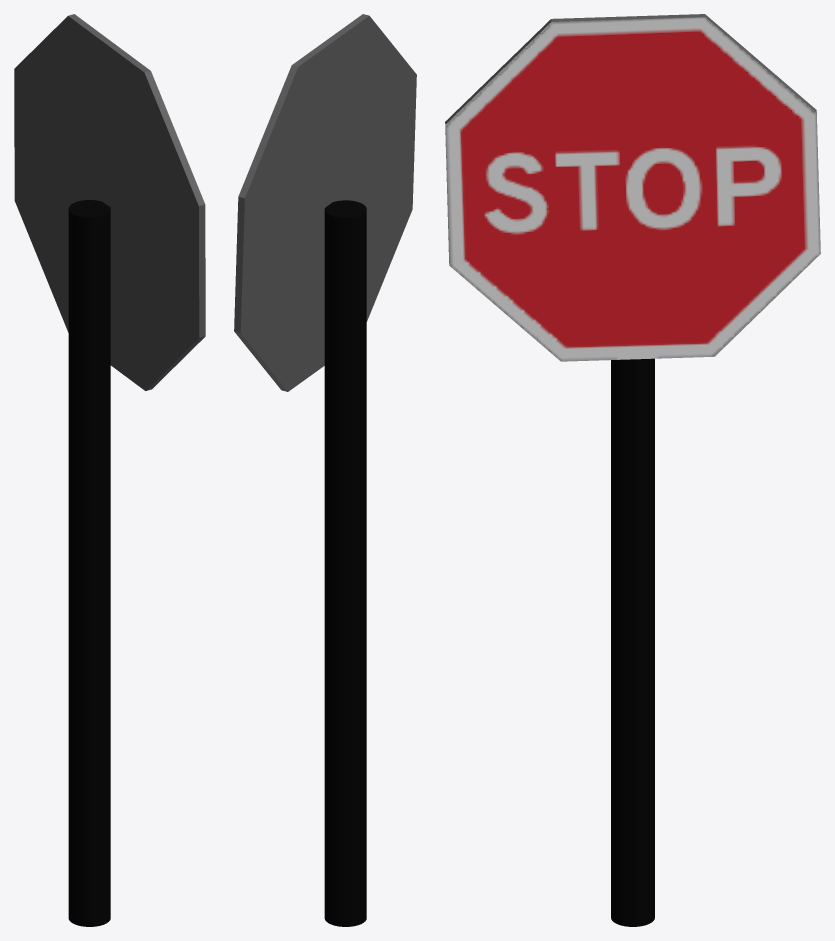
File: Sign_stop.fbx
3 renders of one model, left to right at view 1: azimuth 30°, elevation 25°; view 2: azimuth 150°, elevation 25°; view 3: azimuth 270°, elevation 25°, orthographic. The views are drawn at different scales.
Parts seen in each view (by area): view 1: Sign_Stop, Pole.003; view 2: Sign_Stop, Pole.003; view 3: Sign_Stop, Pole.003.
Part boxes in pixels (left/top/right/bottom): Sign_Stop: left=14, top=14, right=205, bottom=390; Pole.003: left=68, top=200, right=110, bottom=926; Sign_Stop: left=234, top=14, right=416, bottom=391; Pole.003: left=324, top=200, right=366, bottom=926; Sign_Stop: left=445, top=14, right=820, bottom=361; Pole.003: left=611, top=358, right=654, bottom=926.
Bounding box in the file's own units: 6.07 × 110 × 41.08.
